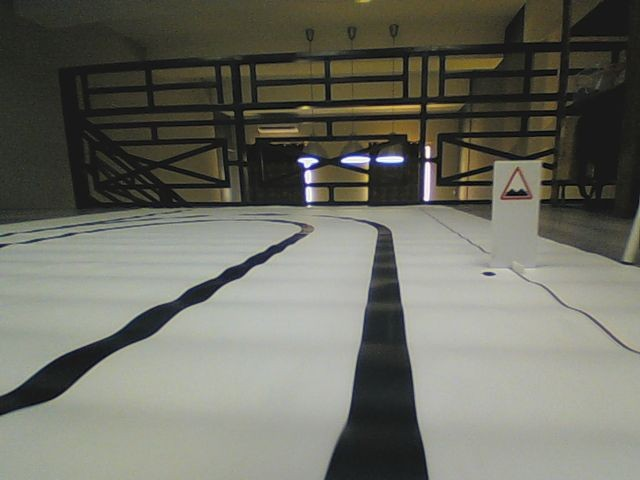Nerov: (499, 165, 533, 200)
